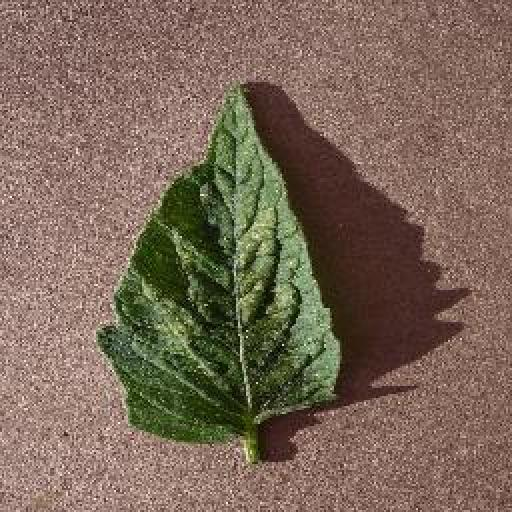disease_tomato: (93, 83, 343, 445)
